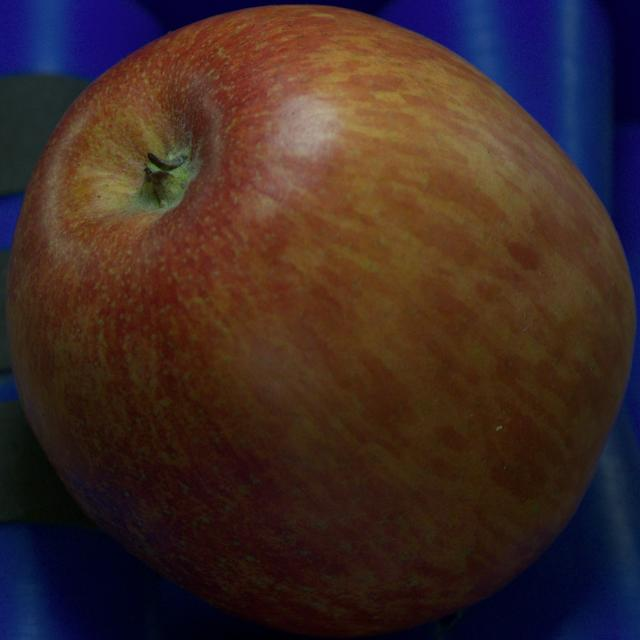apple: (6, 6, 635, 636)
